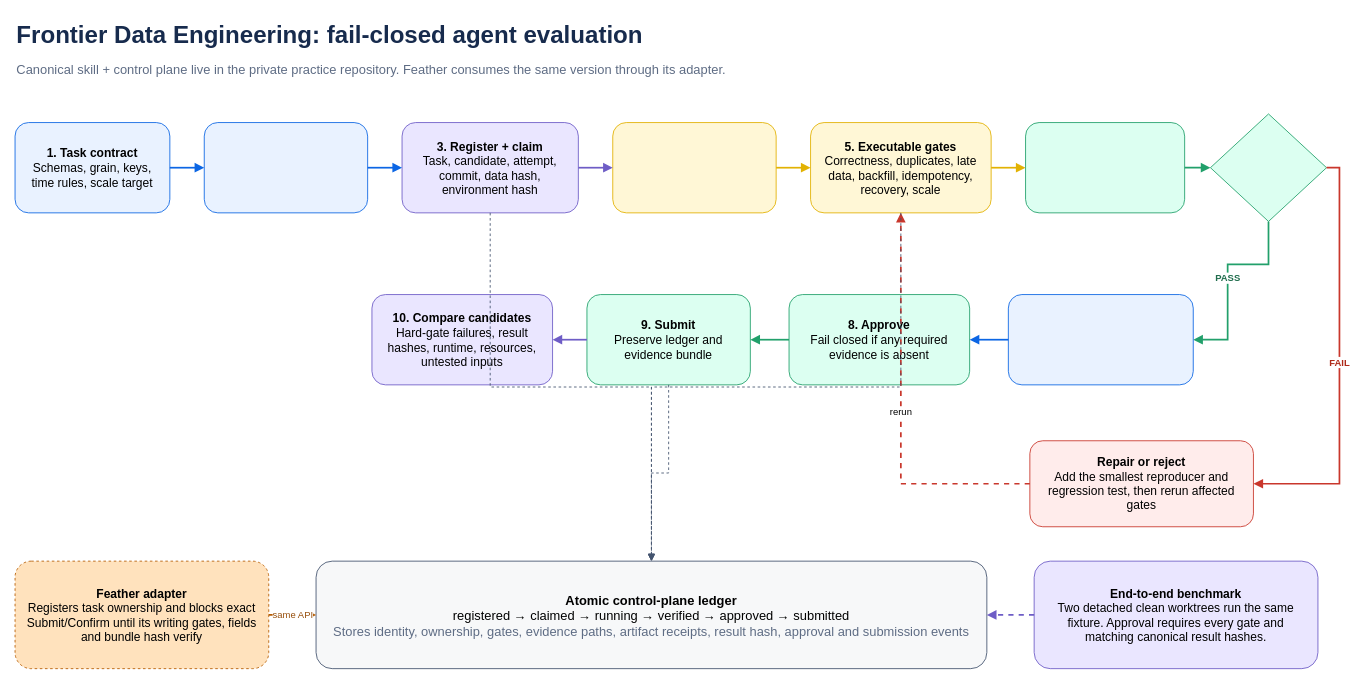
Image size: 1365x684. Some labels were removed from this diagram. Here are the shapes that lost their labels. From the top down, the box of each, then its label:
(203, 122, 368, 213): 2. Isolate candidate Clean worktree or container at one starting commit
(612, 122, 776, 213): 4. Agent implementation Run supplied tests, inspect code and transformations
(1025, 122, 1185, 213): 6. Hash evidence Canonical output hash + SHA-256 artifact receipts
(1210, 113, 1327, 221): All gates pass? Owner + result hash present?
(1007, 294, 1193, 385): 7. Independent review Contract, diff, logs, output diff, plans, limitations
